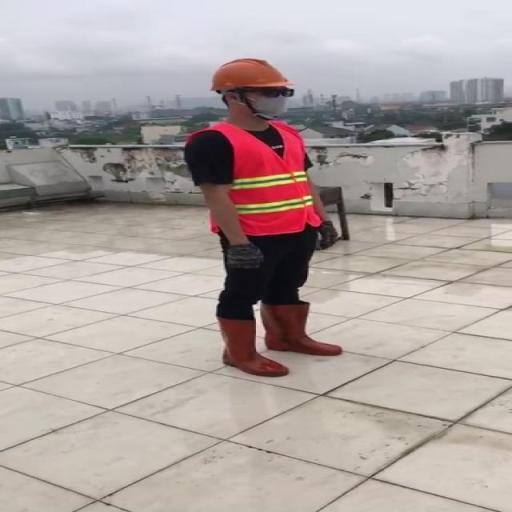Person: (162, 24, 373, 395)
boots: (206, 304, 296, 384), (254, 288, 349, 362)
gloves: (216, 233, 270, 277), (308, 212, 346, 258)
goggles: (229, 82, 307, 106)
helmet: (204, 51, 294, 96)
vest: (177, 110, 343, 244)
